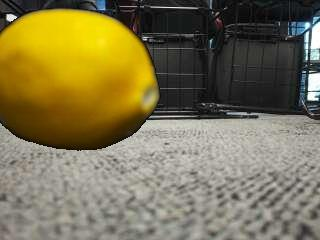lemon: (0, 8, 159, 148)
